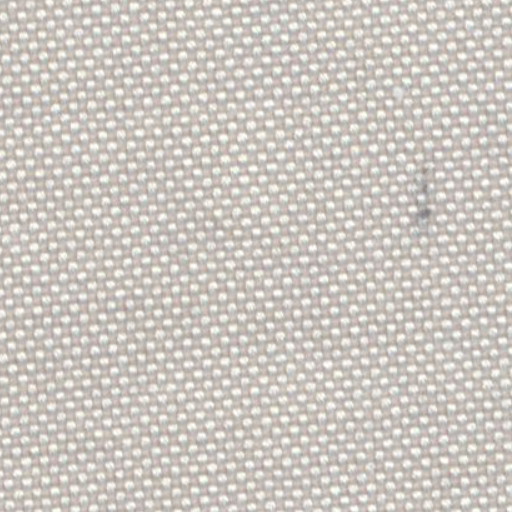WuZi: (390, 148, 454, 250)
